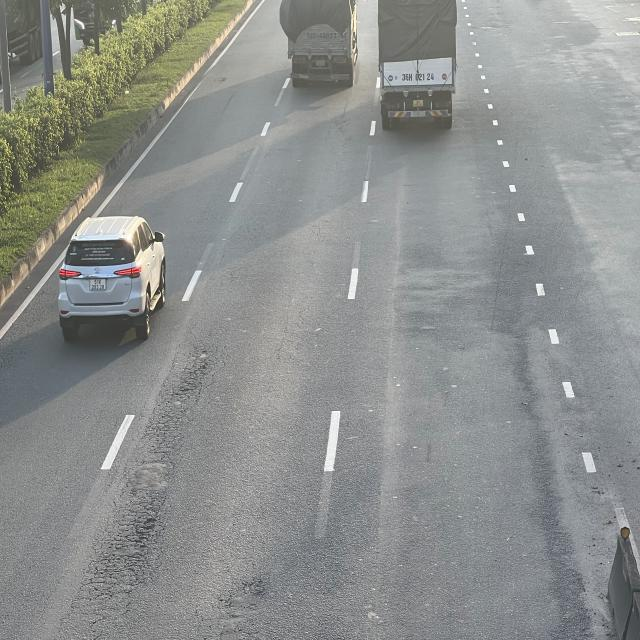car: (60, 214, 171, 347)
truck: (376, 2, 458, 134), (281, 0, 358, 85)
